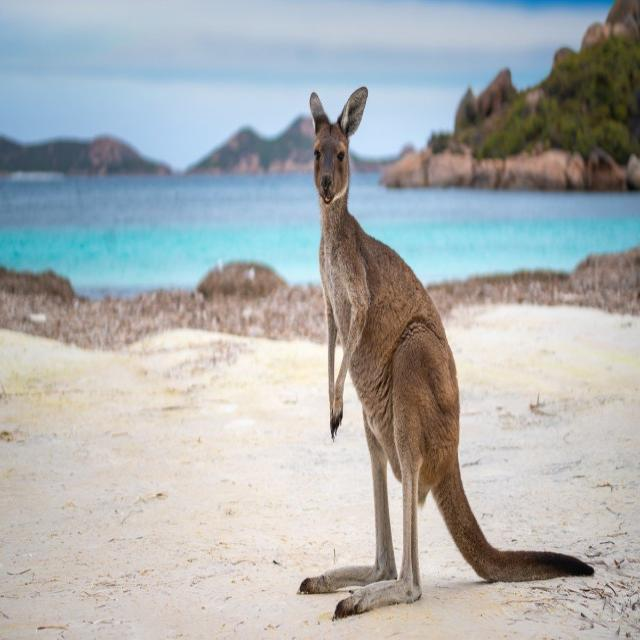Kangaroo: (290, 72, 600, 622)
